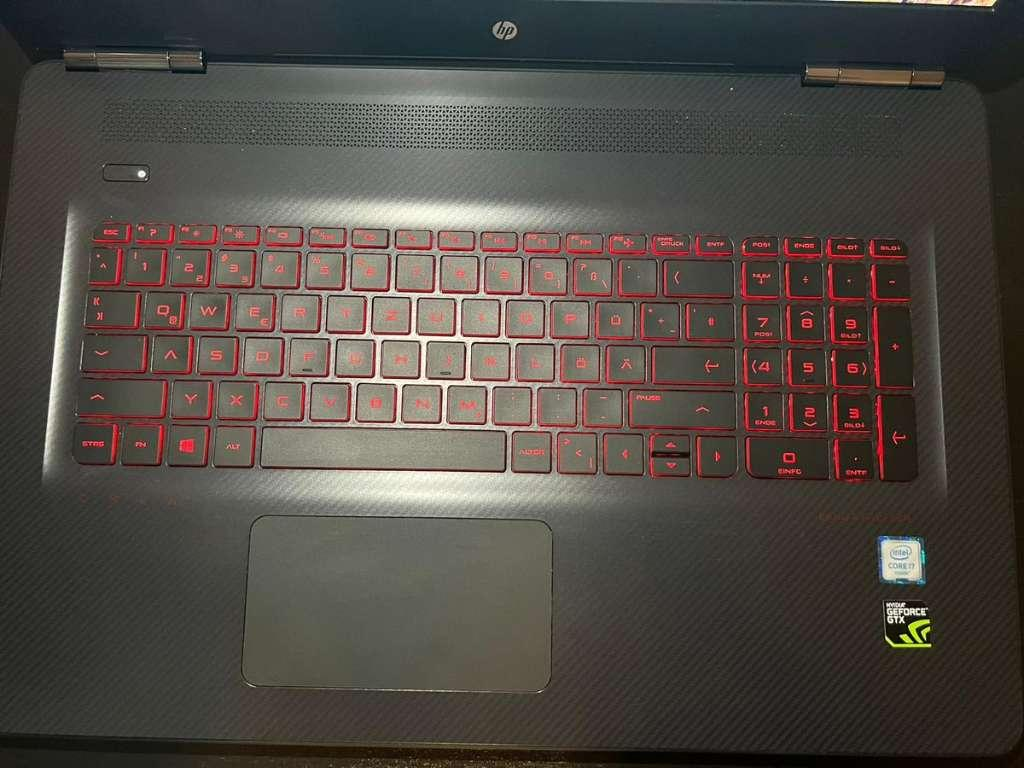0: (527, 253, 567, 292)
1: (122, 243, 163, 282)
2: (168, 245, 208, 284)
3: (212, 246, 252, 284)
4: (258, 247, 297, 285)
5: (304, 250, 343, 288)
6: (350, 250, 389, 288)
7: (395, 250, 434, 289)
8: (439, 252, 478, 290)
9: (483, 253, 523, 291)
a: (149, 331, 189, 370)
accent: (616, 254, 655, 292)
ae: (604, 340, 644, 380)
alt-left: (210, 422, 253, 466)
altgr-right: (508, 426, 550, 471)
b: (354, 379, 397, 420)
c: (261, 376, 302, 418)
caret: (87, 245, 115, 280)
comma: (490, 382, 530, 422)
d: (240, 332, 282, 373)
del: (661, 255, 732, 293)
e: (232, 288, 273, 329)
enter: (650, 341, 734, 380)
f: (286, 333, 328, 373)
g: (333, 334, 373, 374)
h: (379, 335, 419, 376)
hash: (683, 299, 733, 338)
i: (459, 294, 499, 334)
j: (424, 337, 464, 377)
k: (468, 338, 509, 378)
keyboard: (58, 216, 931, 489)
l: (513, 339, 553, 379)
less: (553, 428, 596, 473)
m: (444, 381, 486, 422)
minus: (580, 384, 621, 423)
n: (399, 380, 441, 421)
o: (504, 296, 544, 335)
oe: (558, 340, 598, 379)
p: (548, 296, 588, 335)
plus: (638, 298, 678, 336)
point: (535, 383, 575, 422)
q: (140, 286, 182, 327)
r: (279, 289, 319, 329)
s: (195, 332, 236, 372)
shift-left: (74, 374, 163, 414)
shift-lock: (78, 330, 143, 369)
shift-right: (625, 385, 734, 425)
space: (257, 423, 505, 470)
ss: (571, 254, 610, 292)
strg-left: (69, 419, 114, 463)
t: (325, 291, 365, 330)
tab: (81, 286, 134, 324)
u: (415, 293, 455, 333)
ue: (593, 297, 633, 336)
v: (307, 378, 349, 418)
w: (186, 287, 227, 327)
x: (215, 376, 255, 417)
y: (168, 375, 210, 416)
z: (369, 292, 410, 332)
